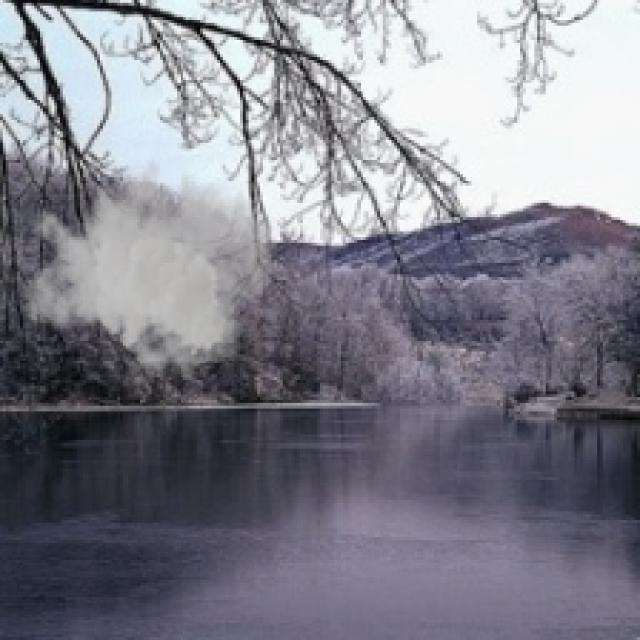Smoke: (20, 146, 277, 383)
